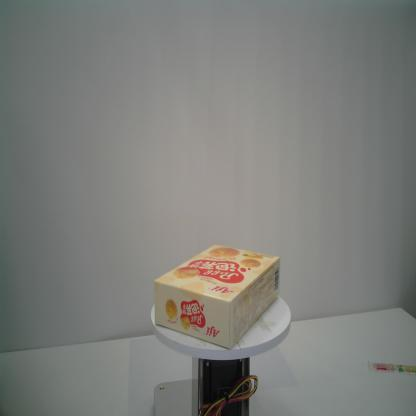Dessert: (154, 243, 281, 350)
